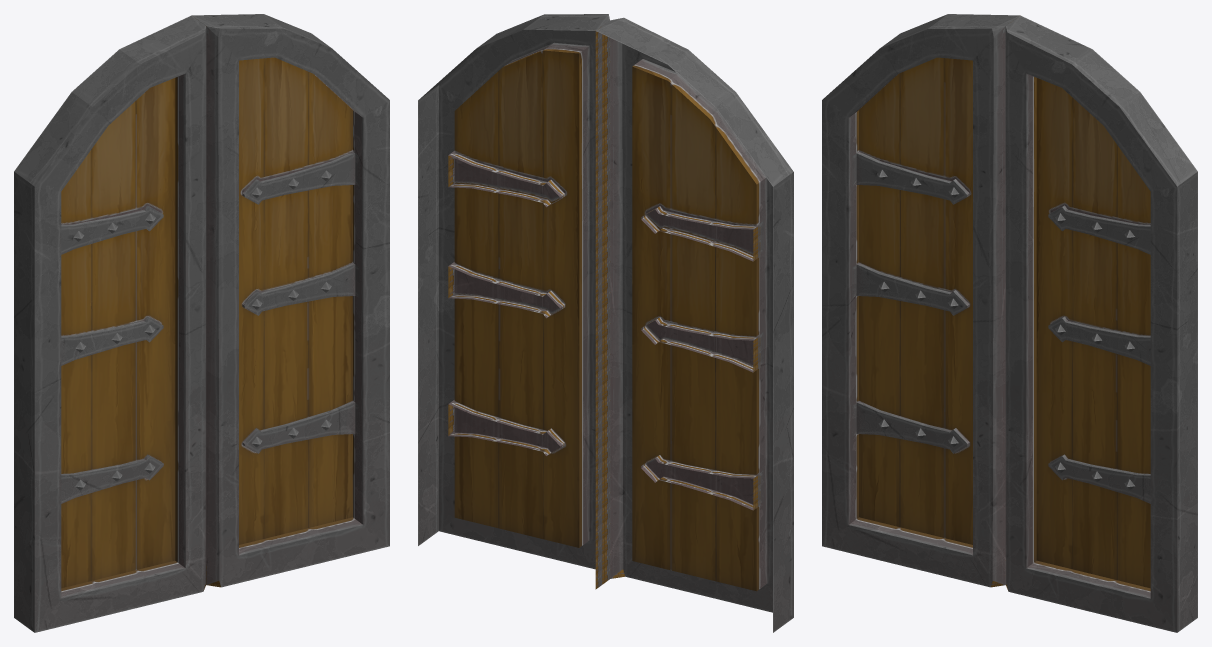
The model's file is AD_Door_A_01.fbx.
3 views of the same model, side by side, from view 1: azimuth 30°, elevation 25°; view 2: azimuth 150°, elevation 25°; view 3: azimuth 330°, elevation 25° (orthographic).
Visible parts, largest first — view 1: AD_Door_A_01; view 2: AD_Door_A_01; view 3: AD_Door_A_01.
Boxes of the visible parts, x1,y1,x2,y2 form: AD_Door_A_01: (14,14,389,632); AD_Door_A_01: (418,14,793,632); AD_Door_A_01: (822,14,1197,632).
Bounding box in the file's own units: 392 × 589 × 39.57.
Materials: 1 (1 with a texture image).
